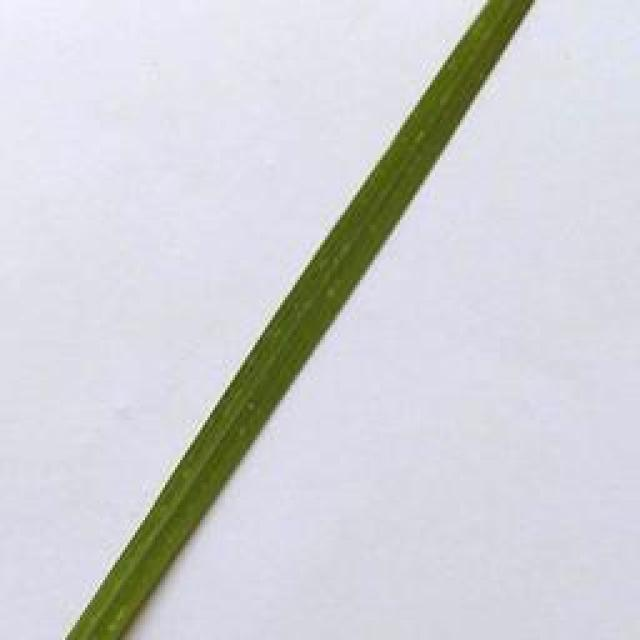Healthy-Plant: (65, 0, 538, 640)
